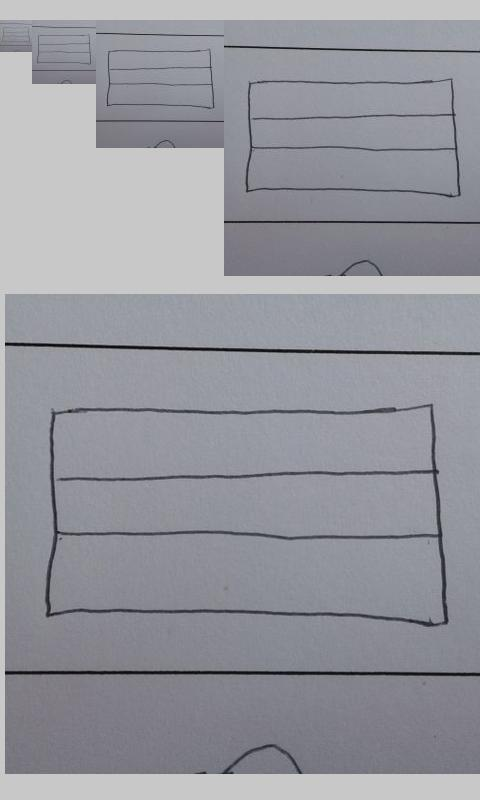list_view: (43, 402, 451, 630), (244, 77, 462, 199), (105, 47, 217, 110), (36, 33, 92, 65), (1, 26, 31, 43)
